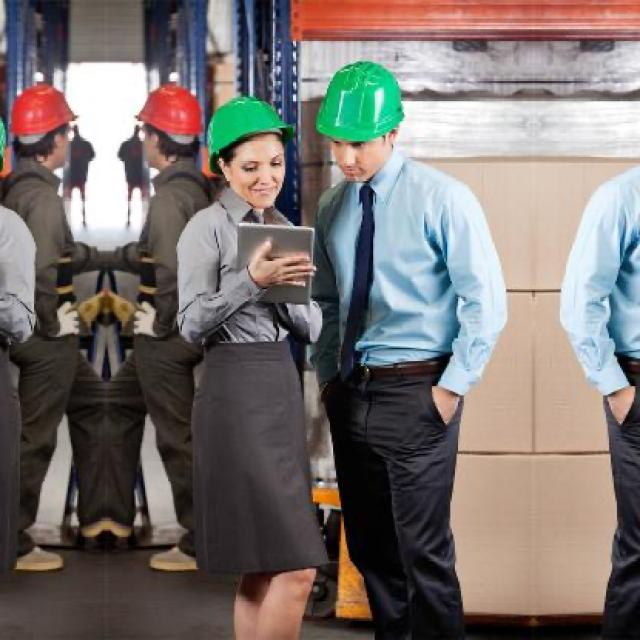helmet: (299, 57, 420, 195), (194, 85, 301, 209), (128, 74, 208, 178), (5, 74, 84, 178)
